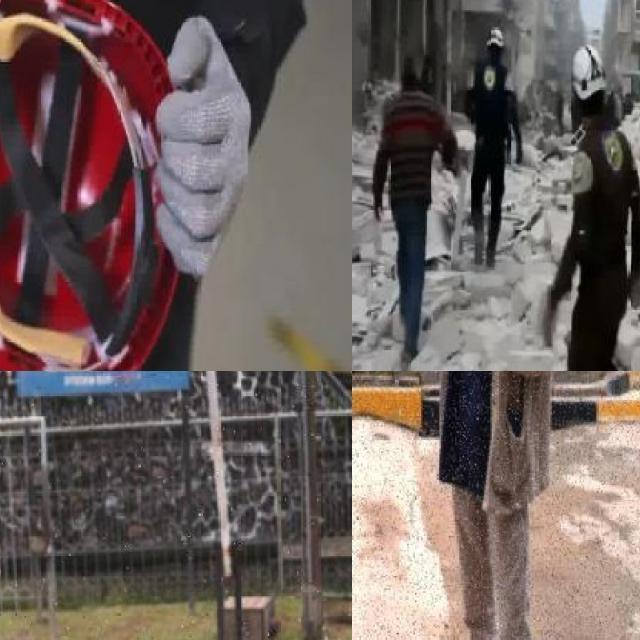apron: (152, 11, 252, 285)
